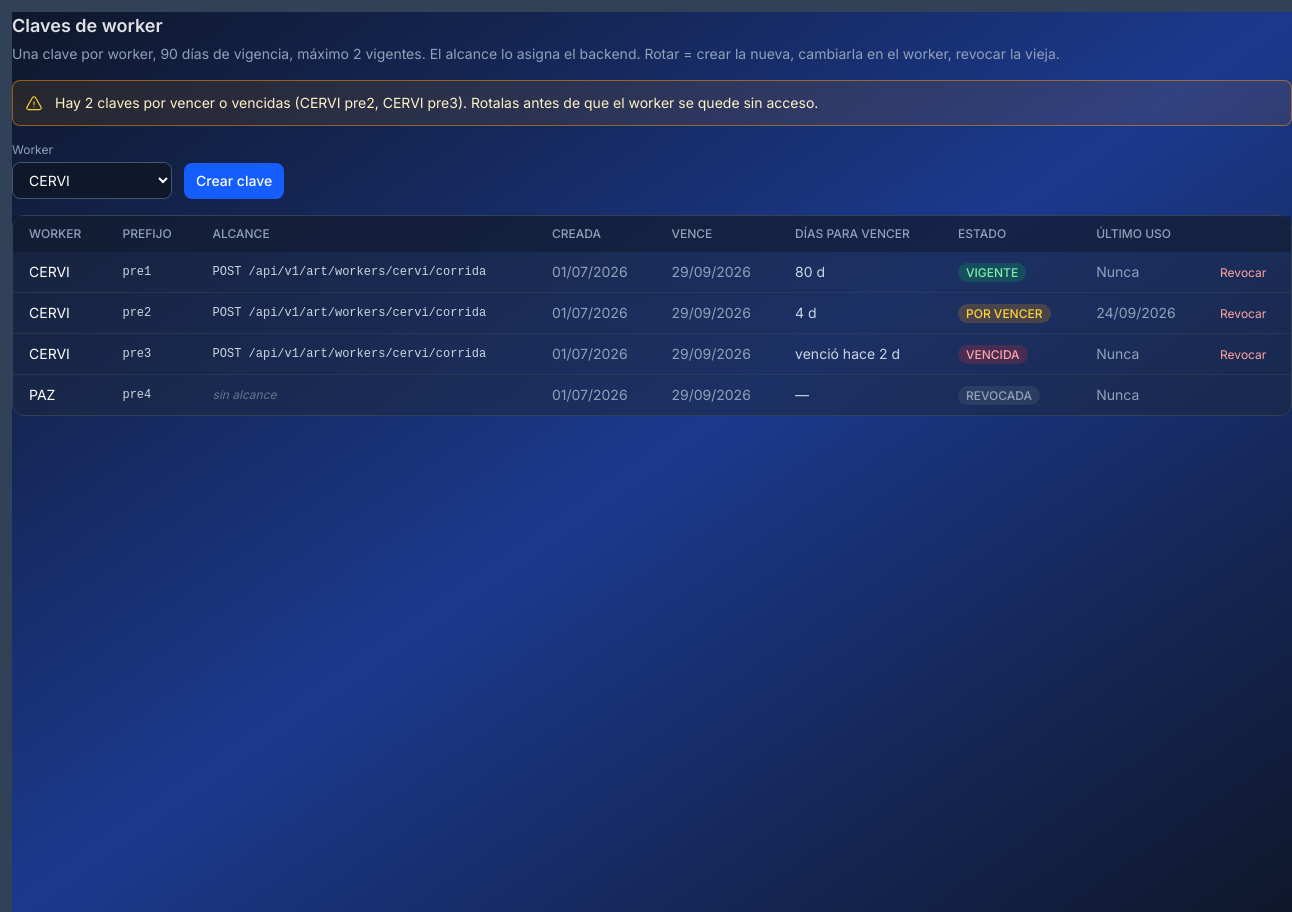
alta › un 409 (ya hay 2 vigentes) muestra el mensaje del backend
Check: the text "pre1" is shown, box [106,252,197,292]
Click the button "Crear clave". click: (234, 181)
box: [184,163,284,199]
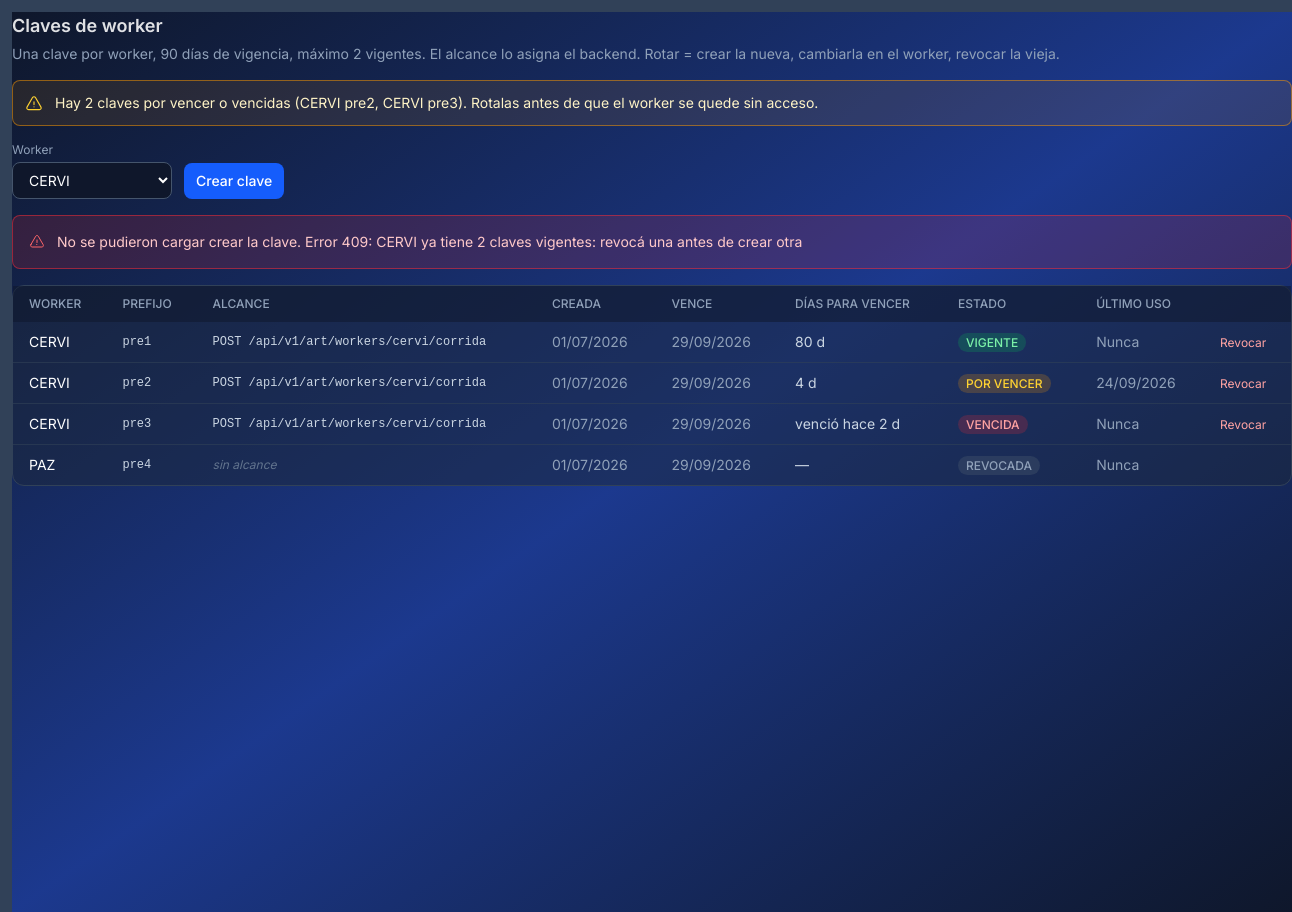
Check: the text "ya tiene 2 claves vigentes" is shown, box [305,233,802,250]
